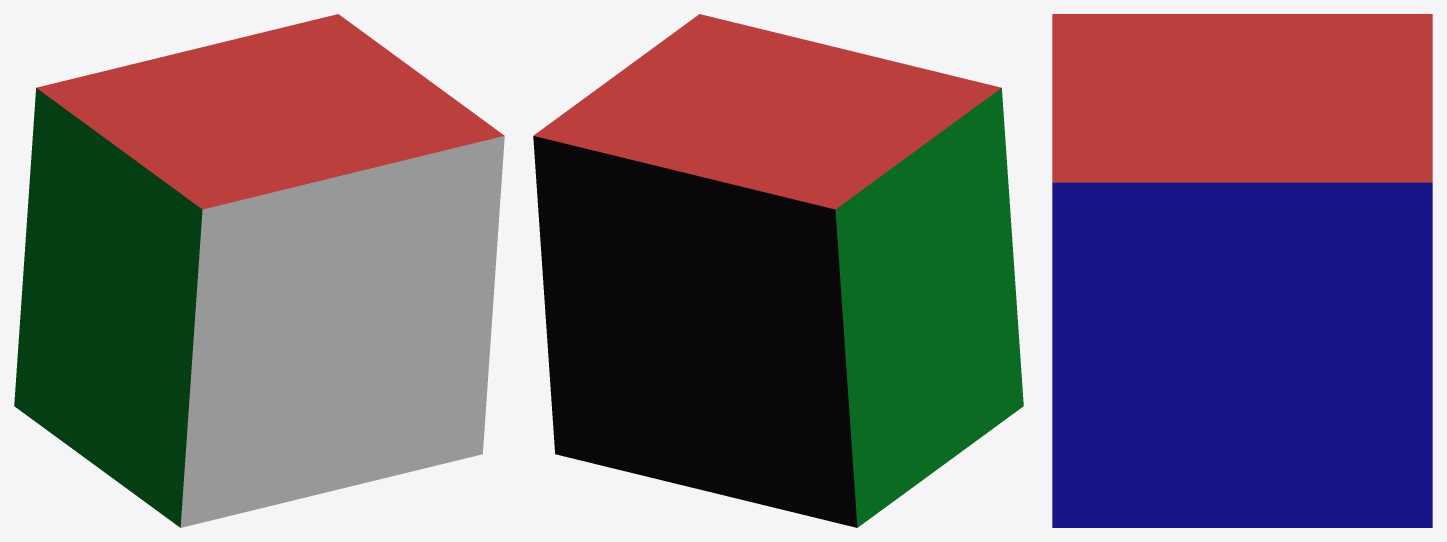
File: cubeshear 1.fbx
3 renders of one model, left to right at view 1: azimuth 30°, elevation 25°; view 2: azimuth 150°, elevation 25°; view 3: azimuth 270°, elevation 25°, orthographic. The views are drawn at different scales.
Visible parts, largest first — view 1: Cube; view 2: Cube; view 3: Cube.
Part boxes in pixels (box(x1,y1,x2,y2)): Cube: box(14, 14, 504, 527); Cube: box(533, 14, 1023, 527); Cube: box(1052, 14, 1432, 527).
Bounding box in the file's own units: 225 × 208 × 200.
